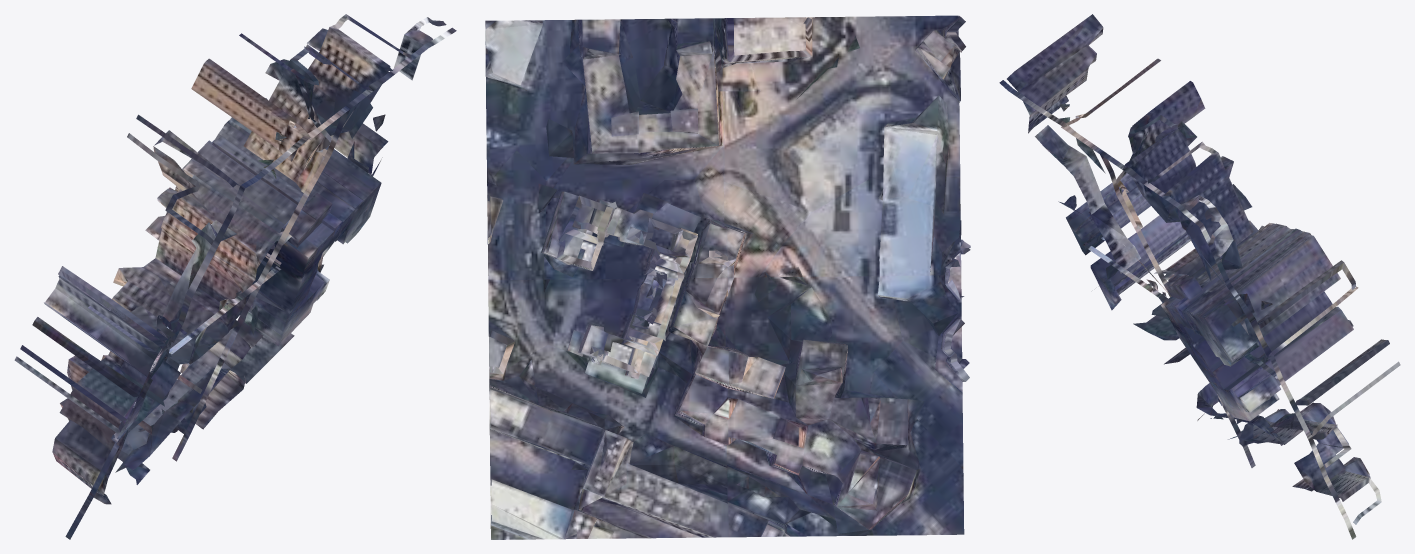
The picture shows the model from 3 angles, left to right: view 1: azimuth 30°, elevation 25°; view 2: azimuth 150°, elevation 25°; view 3: azimuth 270°, elevation 25°; orthographic projection. The views are drawn at different scales.
Size of the model in its own units: 164 by 157 by 143.
Materials: 2 (2 with a texture image).
